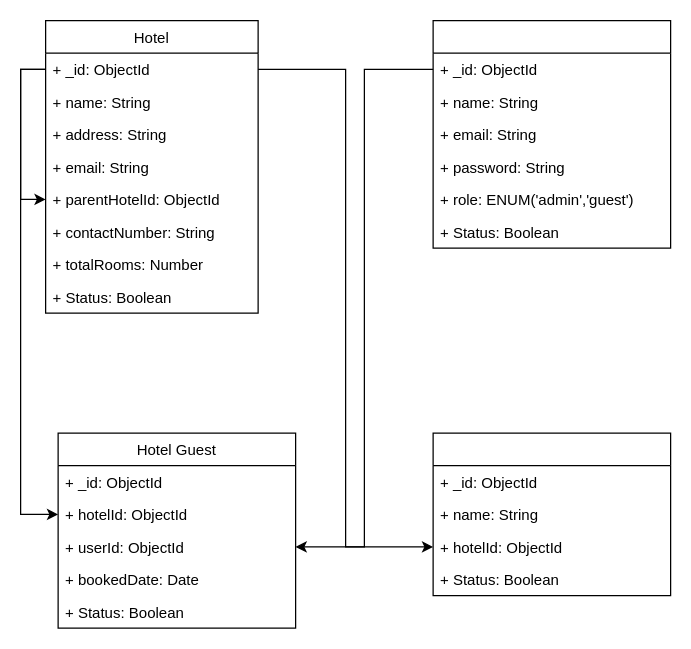
Some shapes in this 691 by 649 pixel diagram are drawn without their labels. Each missing label, with the box of its shape:
Hotel Service: (432, 432, 671, 596)
User: (432, 19, 671, 248)
